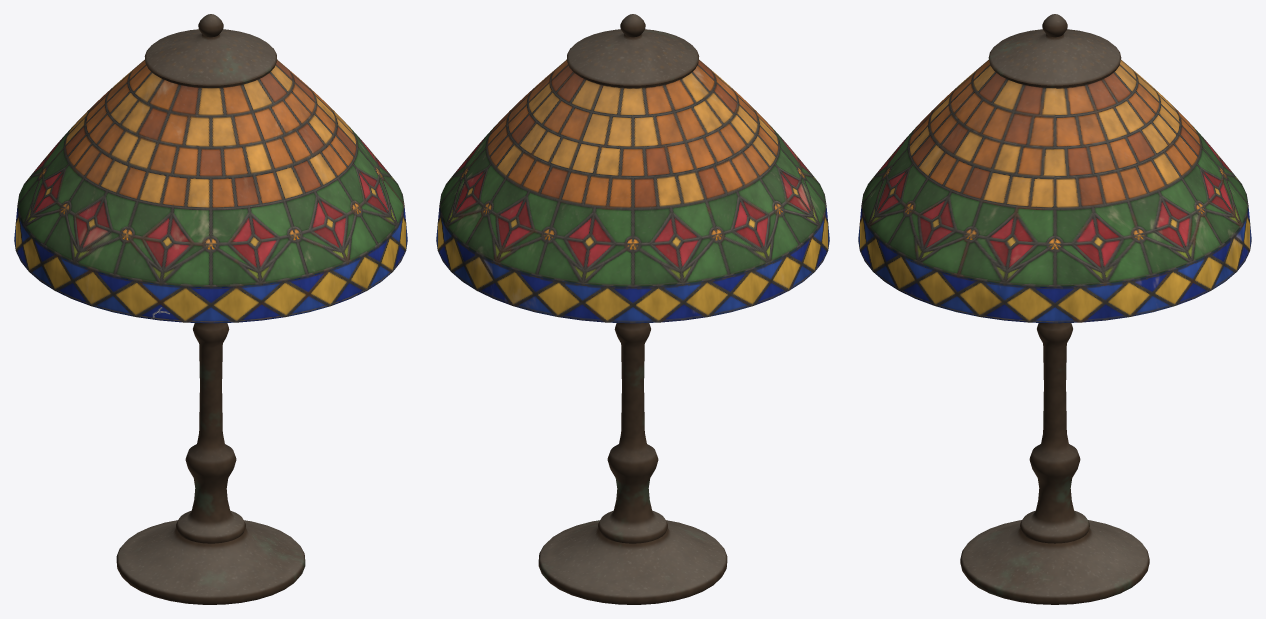
Rendered from StainedGlassLamp.fbx.
3 renders of one model, left to right at view 1: azimuth 30°, elevation 25°; view 2: azimuth 150°, elevation 25°; view 3: azimuth 270°, elevation 25°, orthographic.
Parts seen in each view (by area): view 1: StainedGlassLamp_Shade, StainedGlassLamp_Base; view 2: StainedGlassLamp_Shade, StainedGlassLamp_Base; view 3: StainedGlassLamp_Shade, StainedGlassLamp_Base.
Boxes of the visible parts, left/top/right/bottom form: StainedGlassLamp_Shade: left=14, top=14, right=407, bottom=323; StainedGlassLamp_Base: left=116, top=323, right=305, bottom=604; StainedGlassLamp_Shade: left=436, top=14, right=829, bottom=323; StainedGlassLamp_Base: left=538, top=323, right=727, bottom=604; StainedGlassLamp_Shade: left=858, top=14, right=1251, bottom=323; StainedGlassLamp_Base: left=960, top=323, right=1149, bottom=604.
Size of the model in its own units: 1.42 by 2.2 by 1.42.
1 material, 1 textured.
